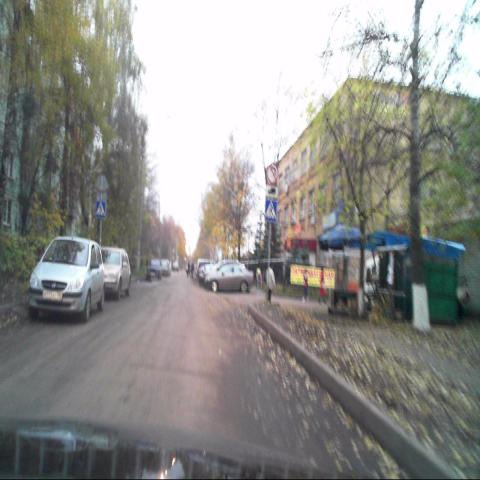3_18_2: (266, 164, 278, 184)
